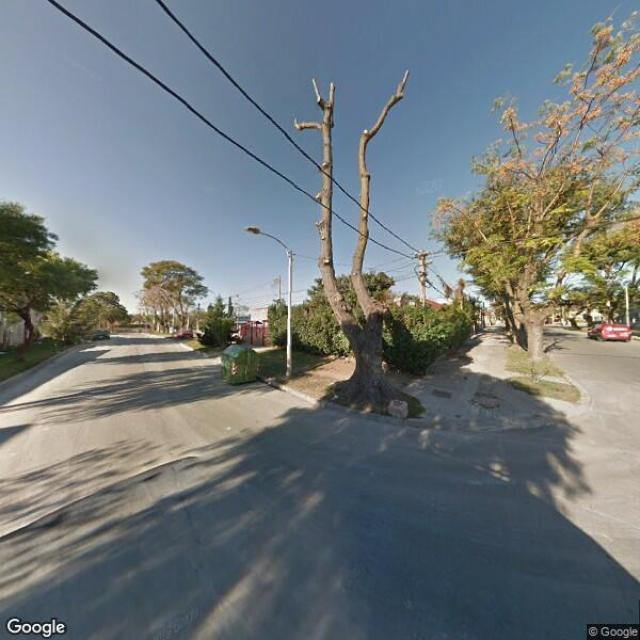garbage container: (216, 339, 271, 397)
